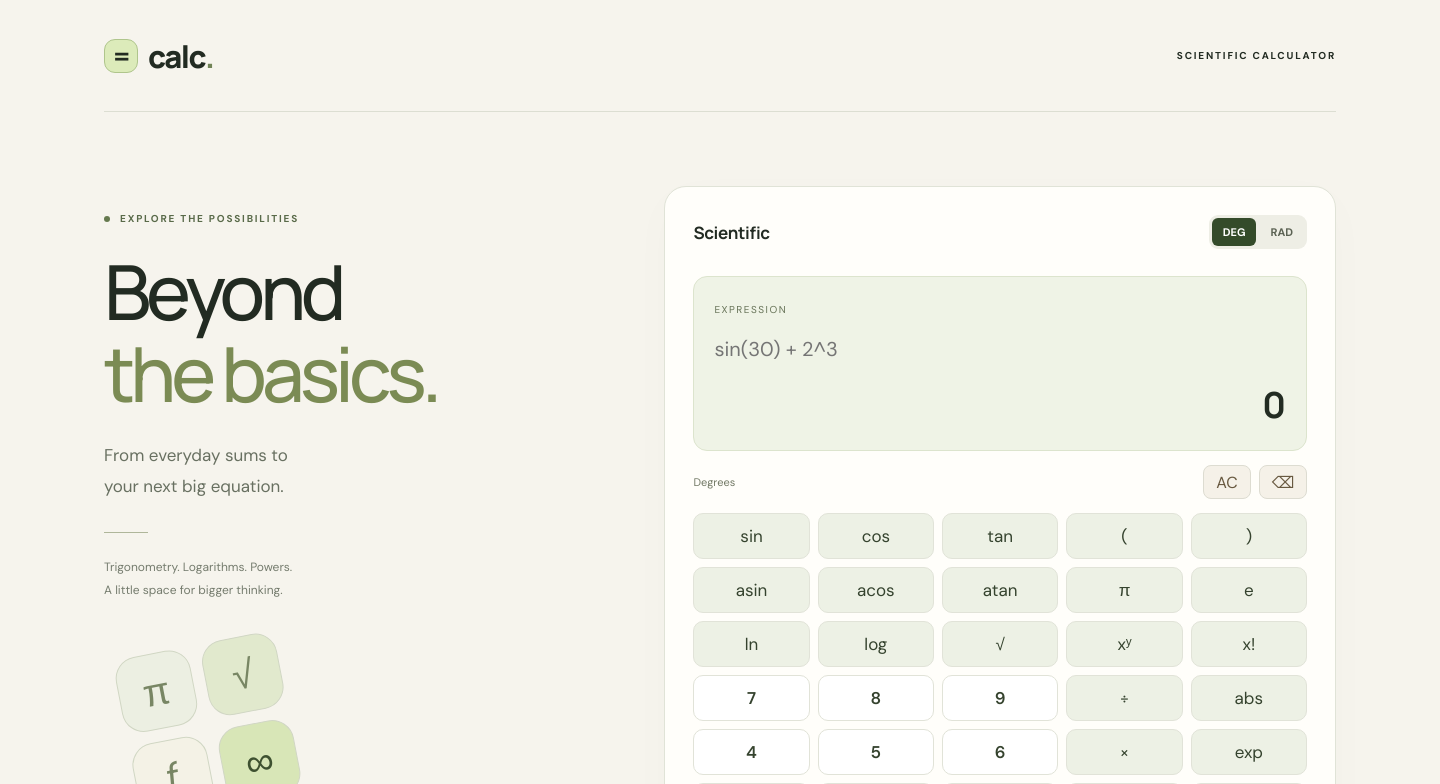
scientific calculator › times out requests
Type "1" into the field labelled "EXPRESSION" at (1000, 349), box [714, 330, 1286, 368]
(page scrolled)
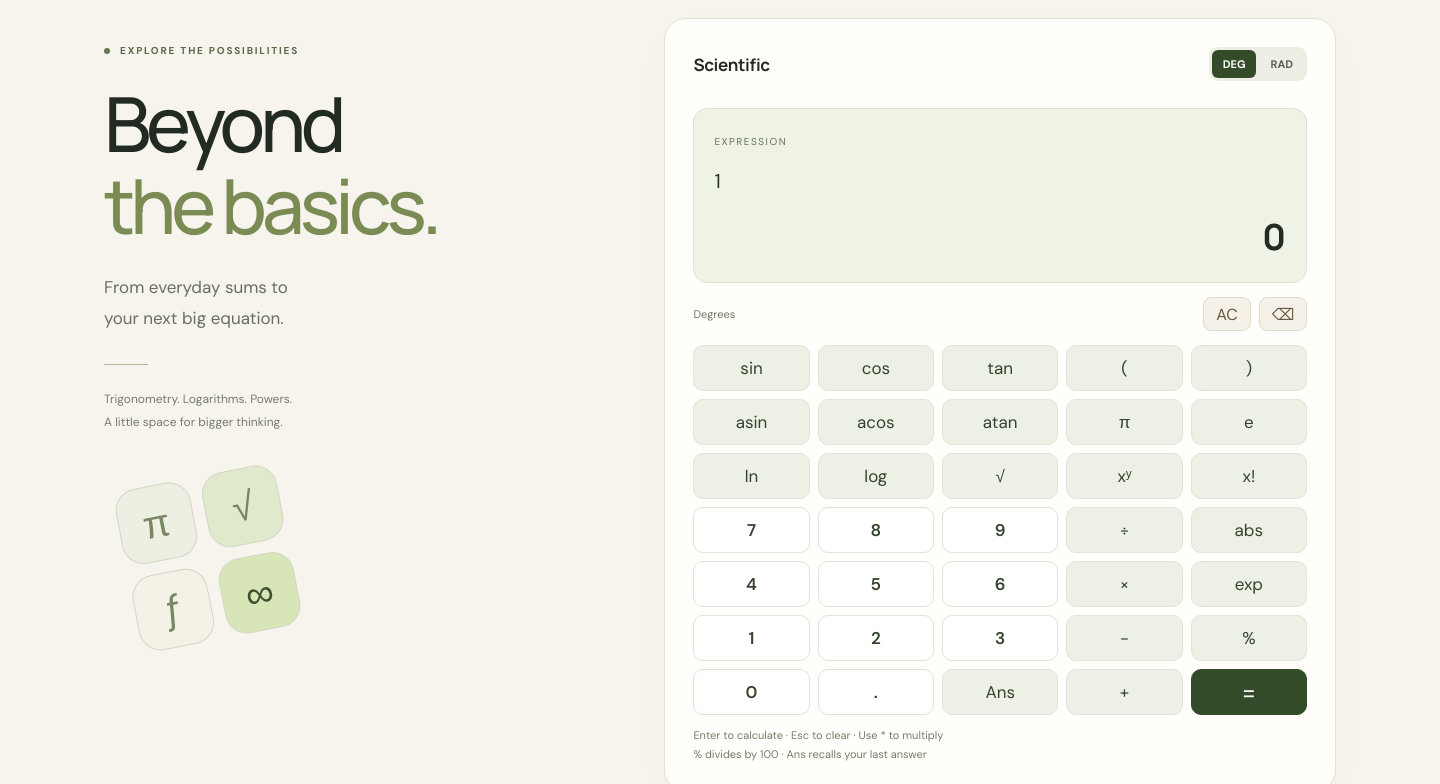
Submit the form named "Calculate", box [693, 47, 1307, 763]
Wait 10000 ms
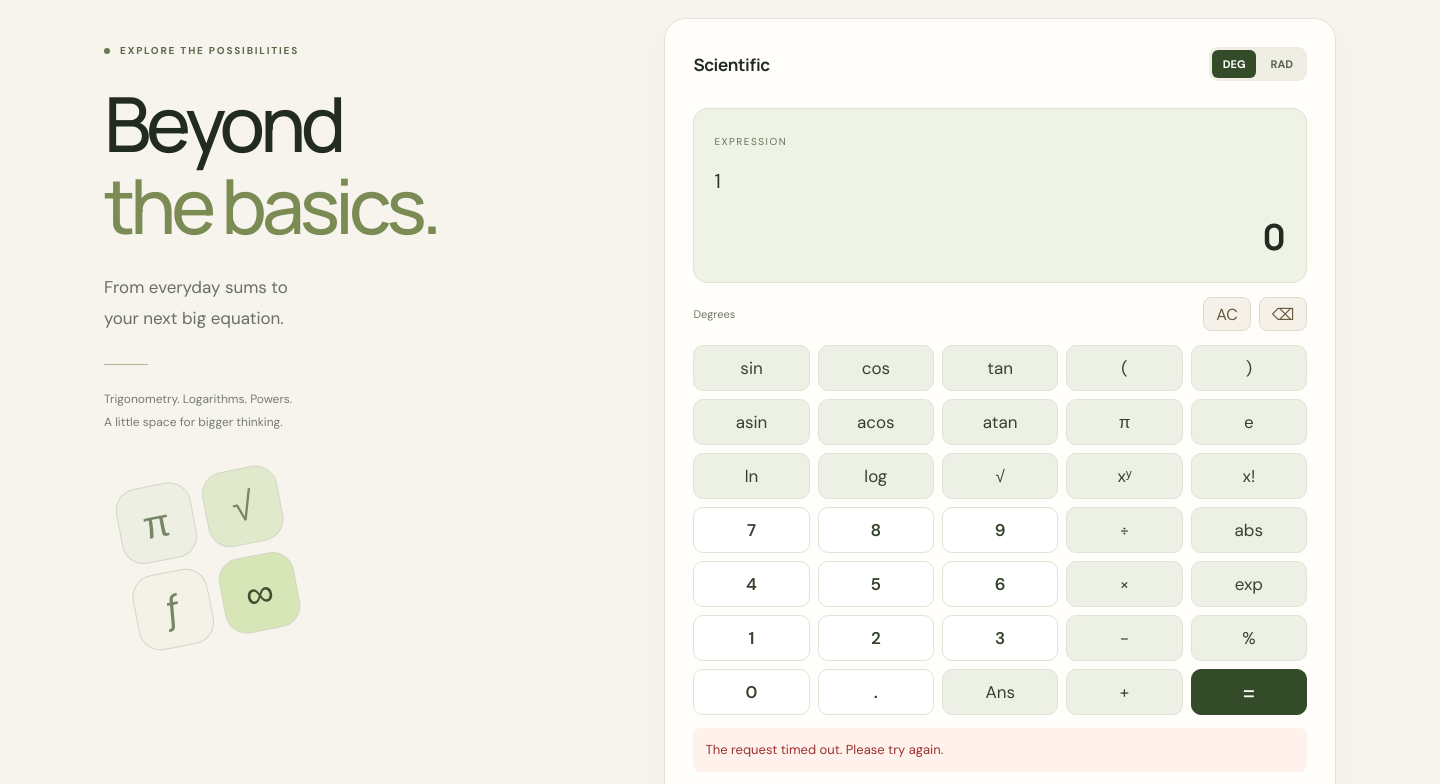
expect the message "The request timed out. Please try again." is shown: met, box [693, 728, 1307, 772]
